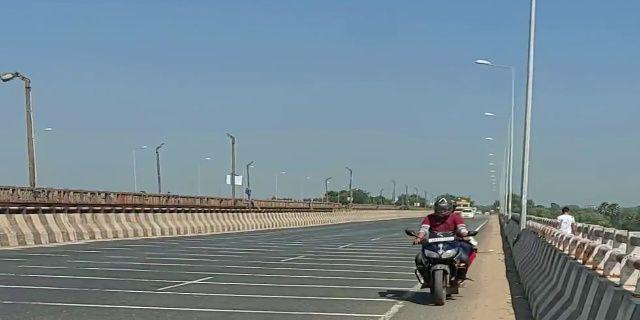Motorbike: (393, 190, 480, 305)
